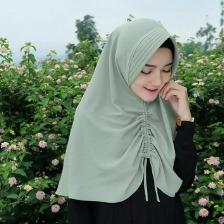HijabSyar-i: (54, 18, 188, 195)
